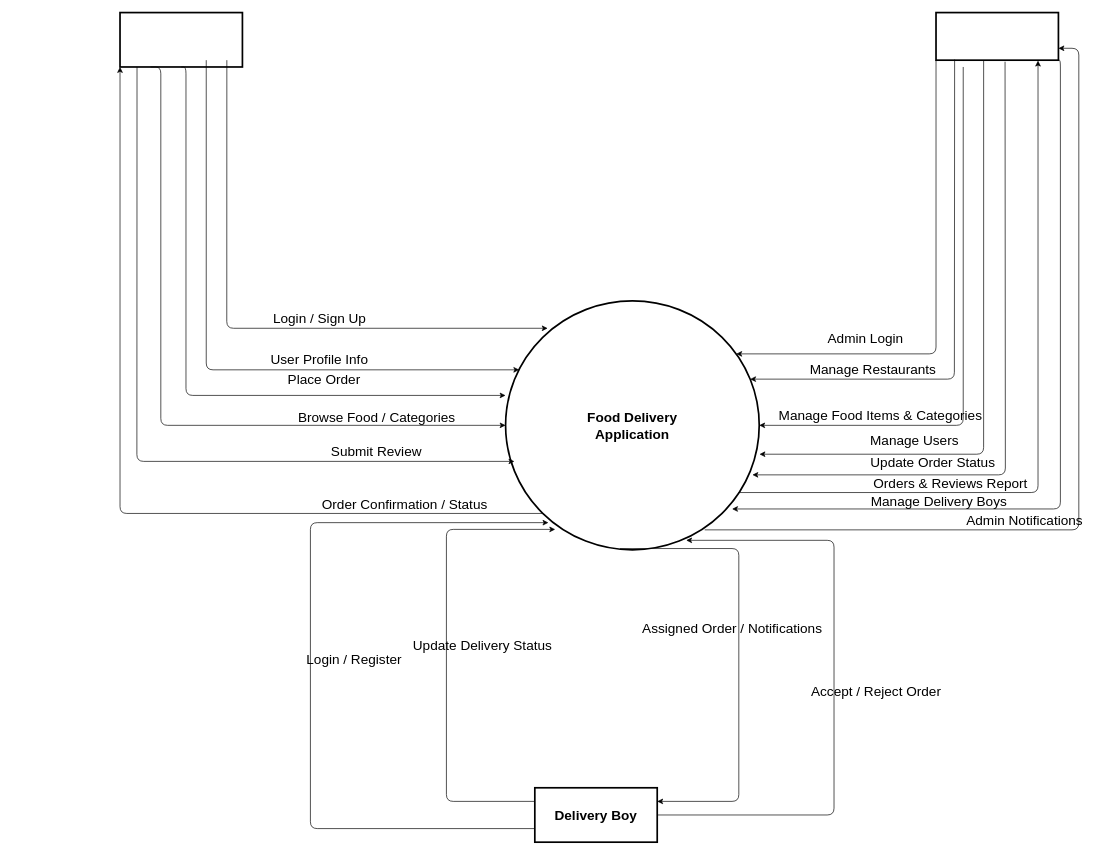
This 1096x855 diagram has some shape labels left out. Here are the shapes that lost their labels. From the top down, the centre of each, then its label:
At point 181,39: "User".
At point 997,36: "Admin".
